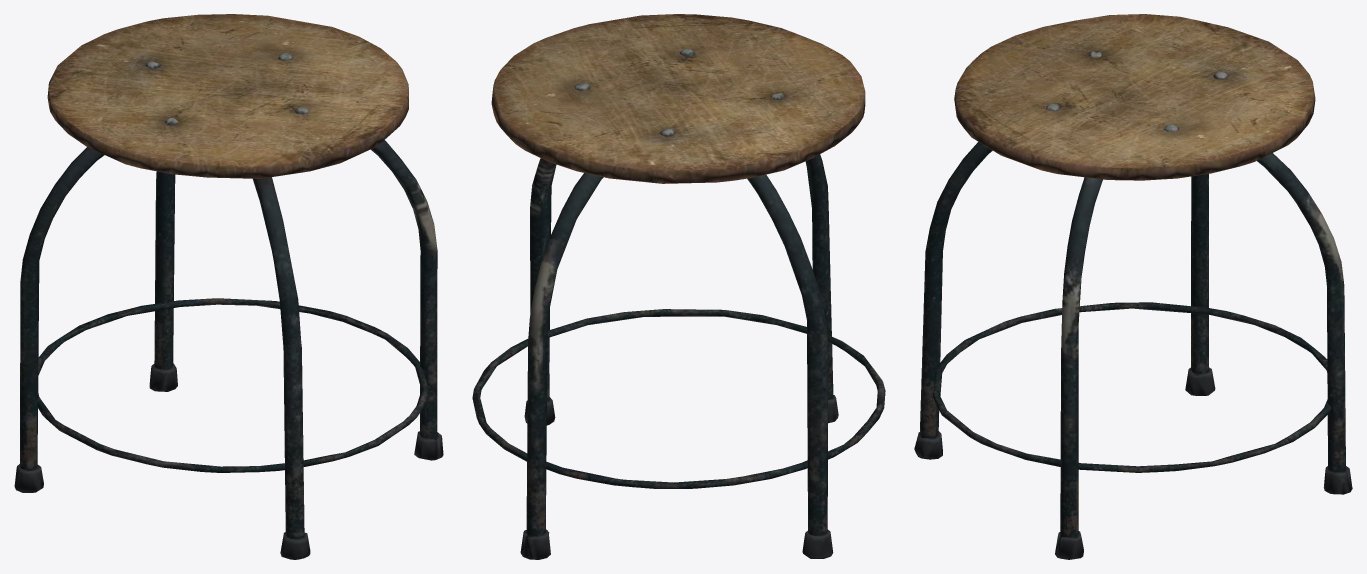
The model's file is metal_stool_02.glb.
The picture shows the model from 3 angles, left to right: view 1: azimuth 30°, elevation 25°; view 2: azimuth 150°, elevation 25°; view 3: azimuth 270°, elevation 25°; orthographic projection. The views are drawn at different scales.
Parts seen in each view (by area): view 1: metal_stool_02; view 2: metal_stool_02; view 3: metal_stool_02.
Part boxes in pixels (box(x1,y1,x2,y2)): metal_stool_02: box(14, 14, 443, 559); metal_stool_02: box(472, 14, 885, 559); metal_stool_02: box(914, 14, 1352, 559).
Size of the model in its own units: 0.4475 by 0.4579 by 0.4727.
Materials: 1 (1 with a texture image).
